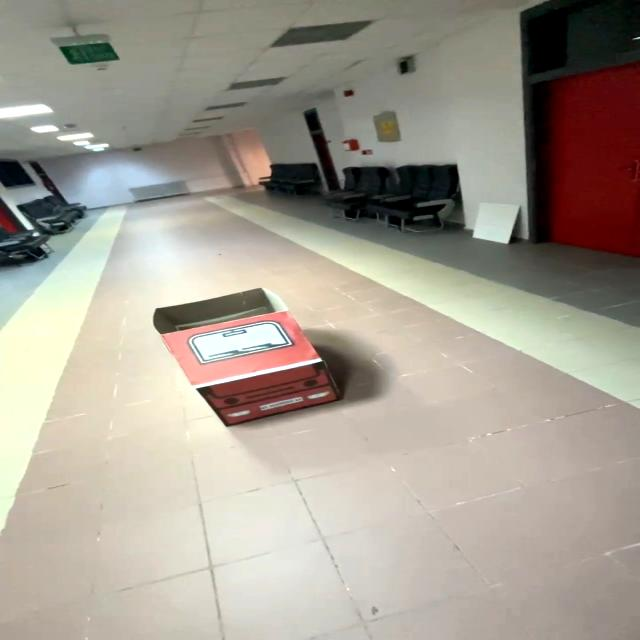red_car: (134, 277, 367, 435)
